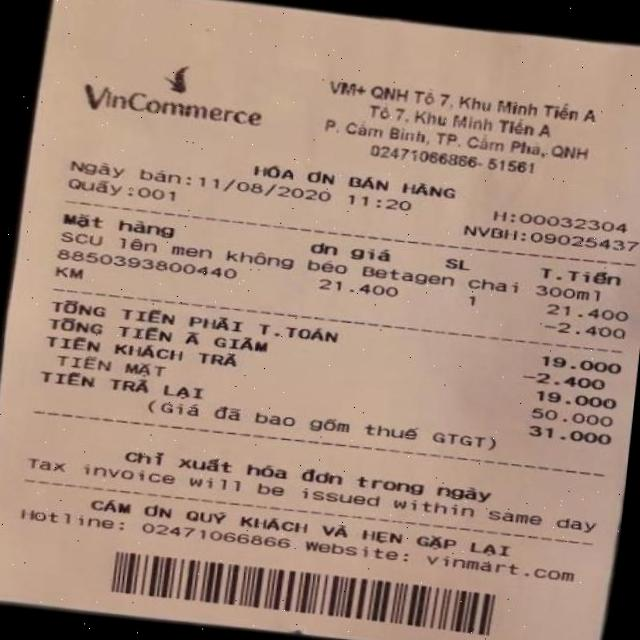Date: (192, 172, 338, 210)
Store_Name: (65, 50, 276, 146)
amount_number: (532, 350, 626, 376)
label_total: (48, 294, 337, 348)
